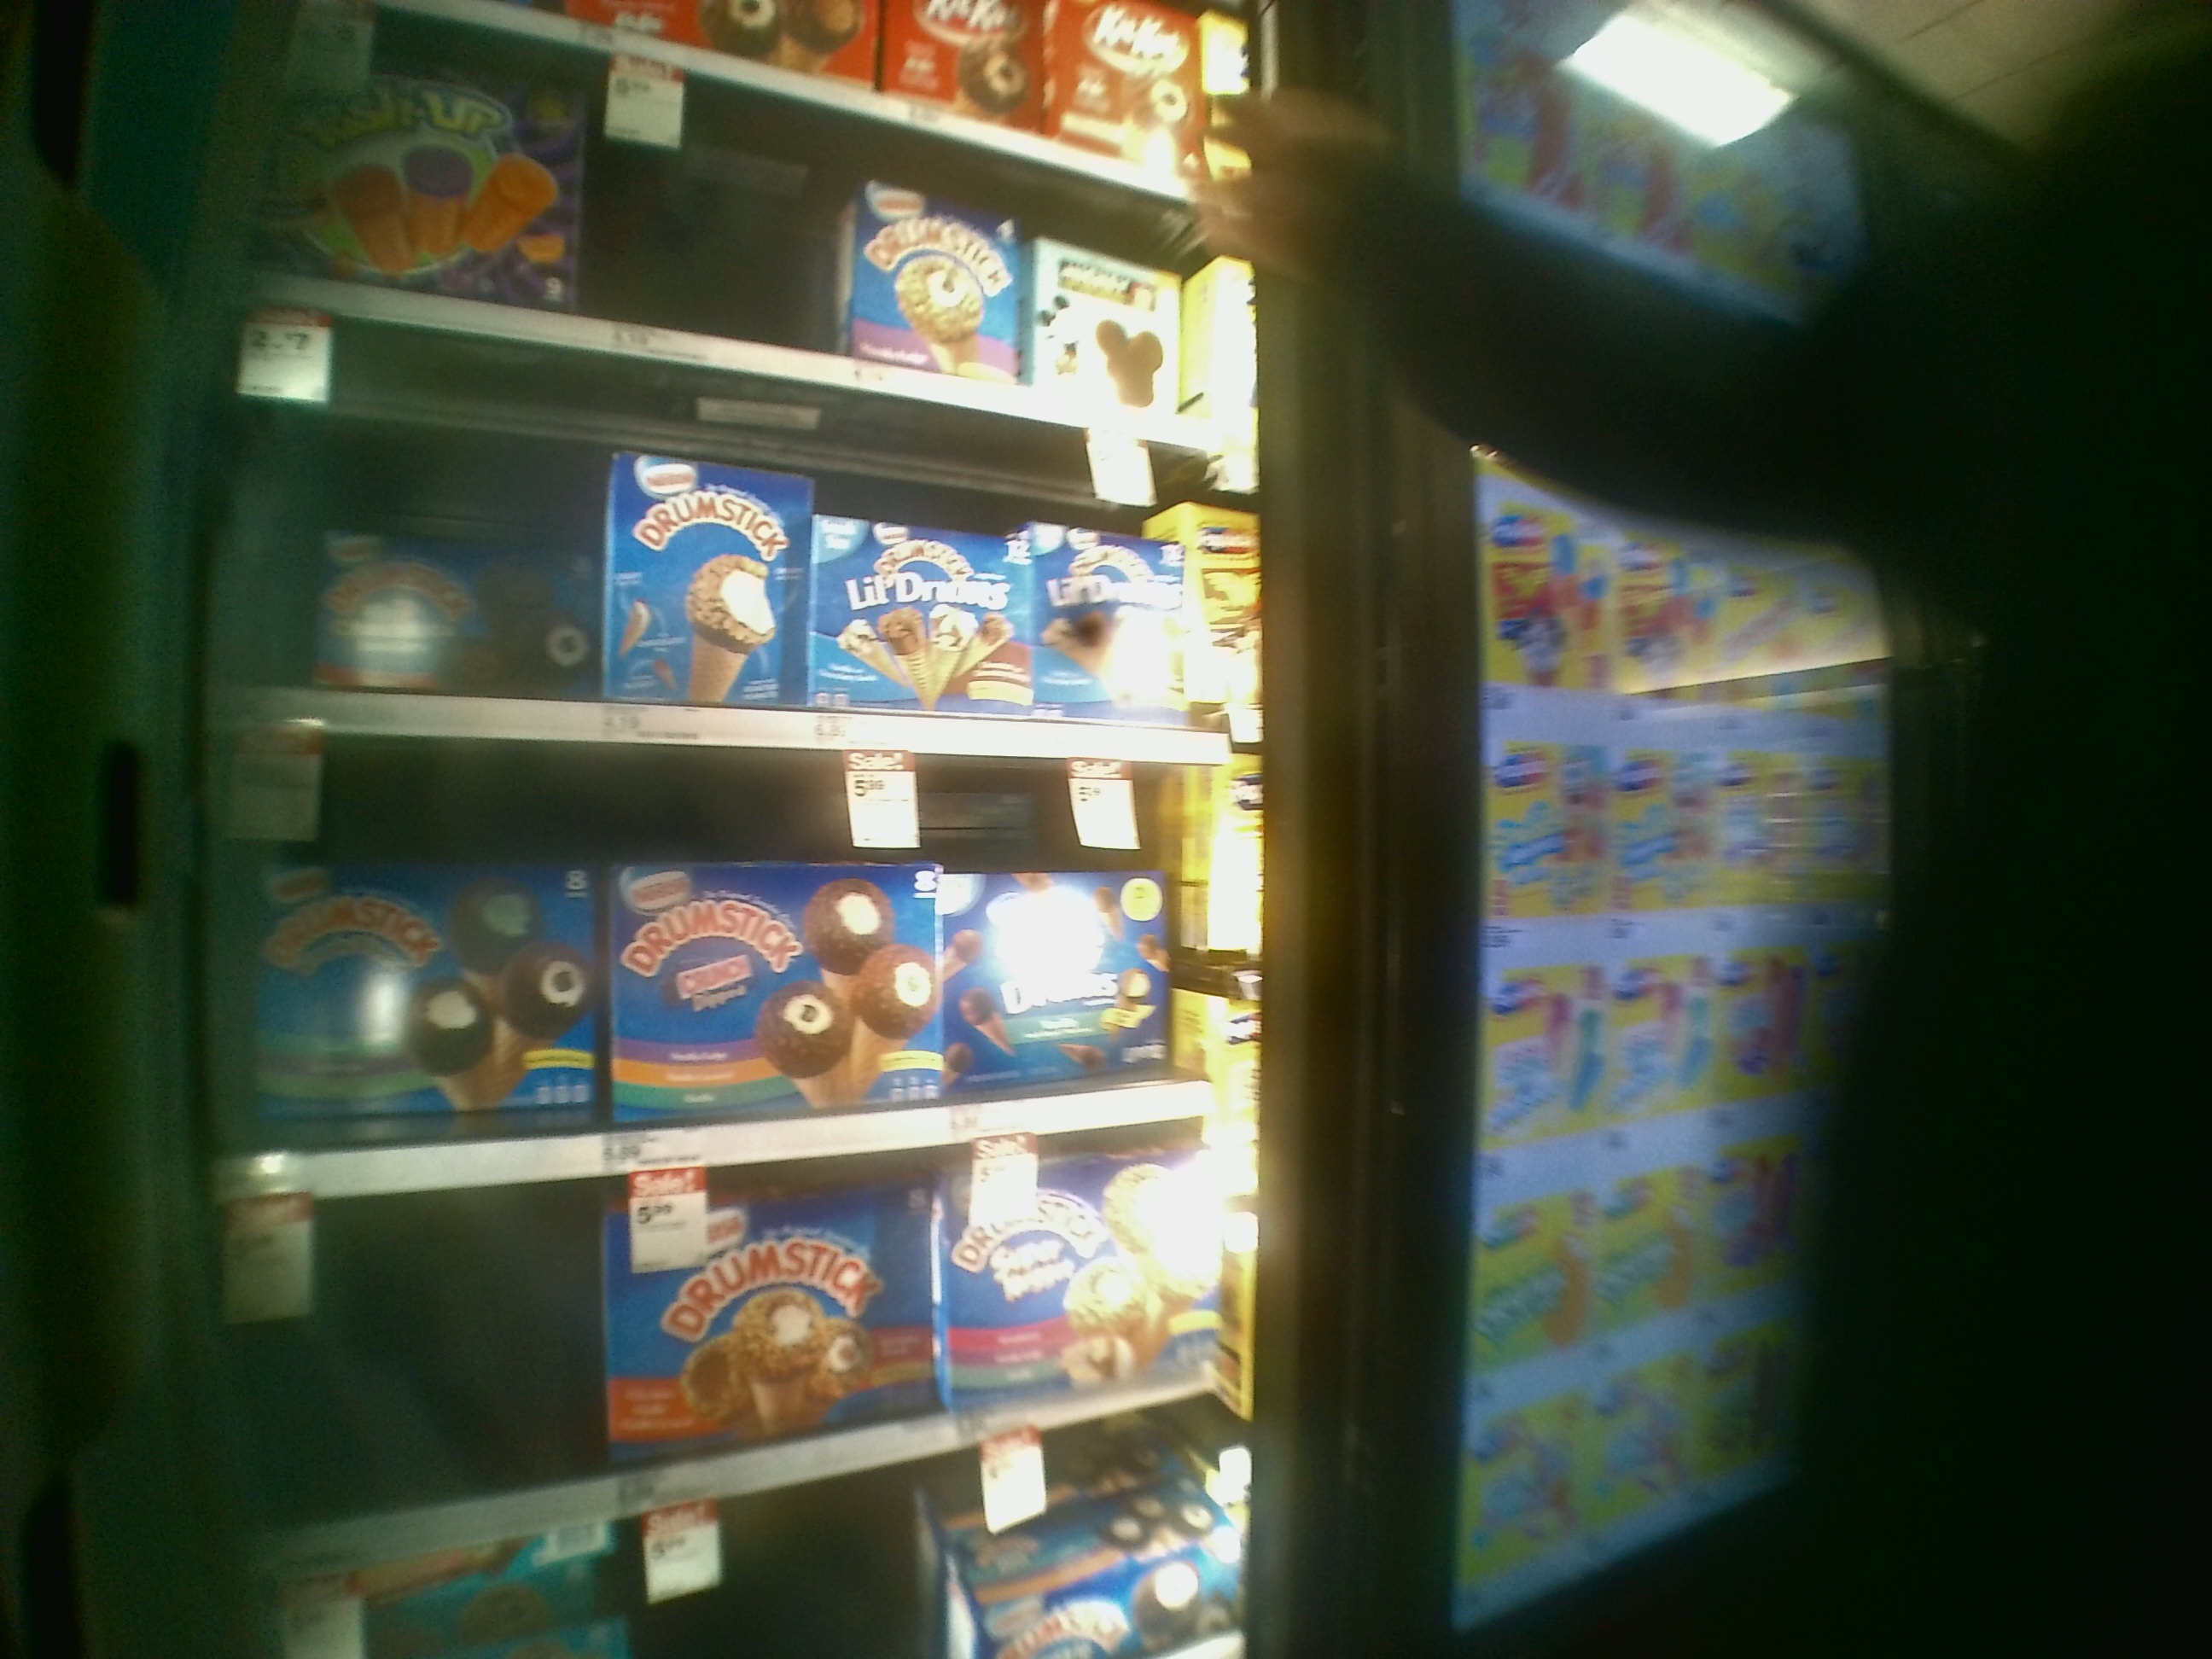shelf: (221, 734, 1264, 1194), (233, 310, 1258, 748)
